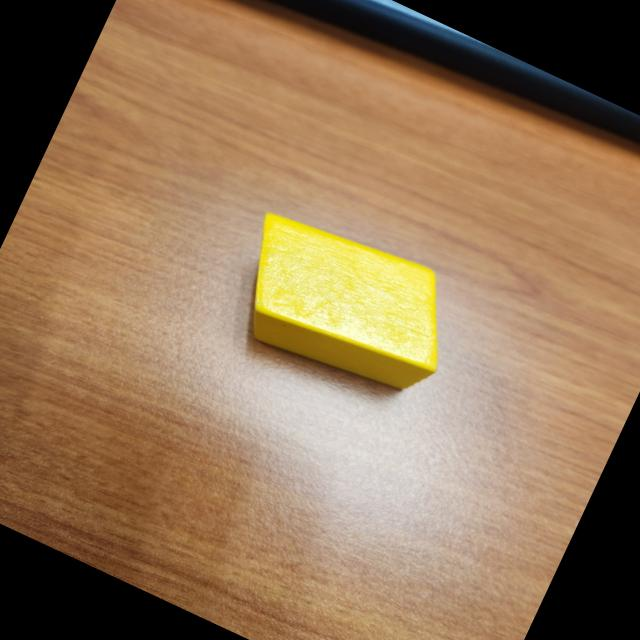yellow: (212, 194, 478, 418)
